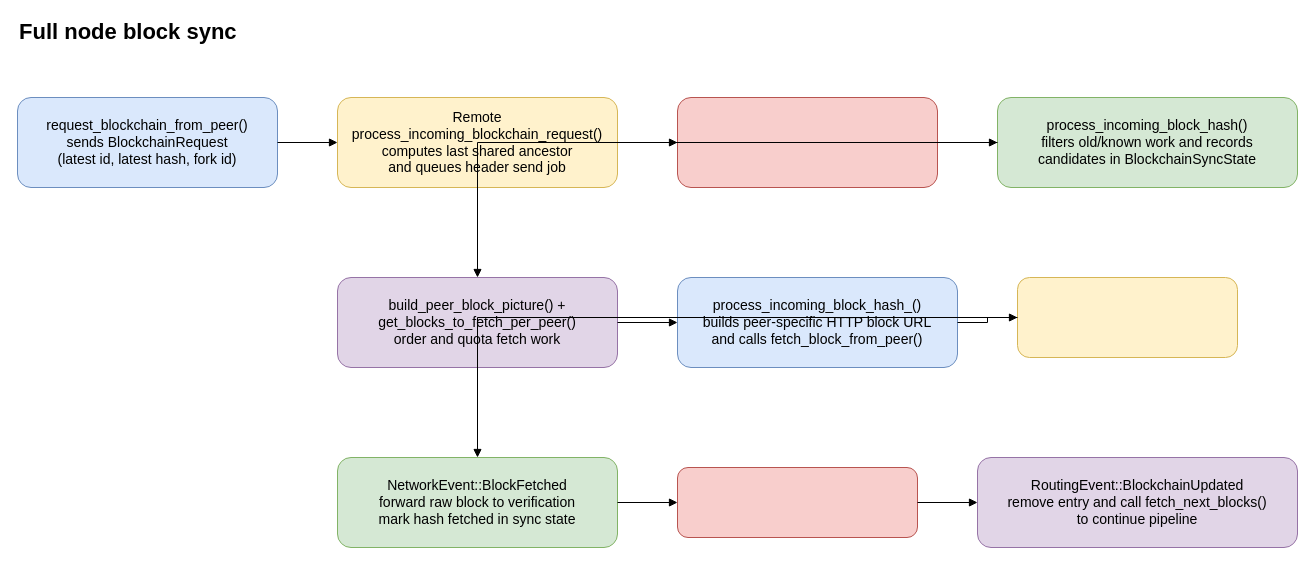
Some shapes in this 1315 by 565 pixel diagram are drawn without their labels. The centre of each missing label's shape, as x and y in pixels:
"send_block_headers() sends BlockHeaderHash messages in batches of up to 100" goes at pixel 807 142.
"Transport fetch path Native: reqwest Web: browser fetch" goes at pixel 1127 317.
"Verification + consensus add block" goes at pixel 797 502.
